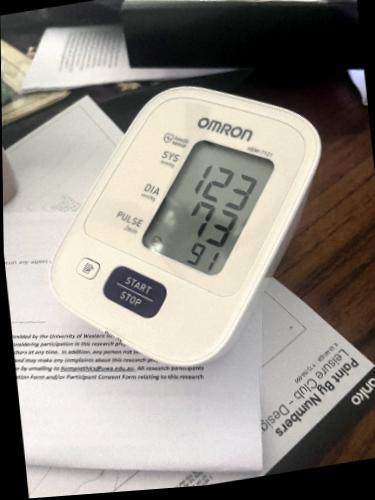bpm: (136, 119, 283, 287)
